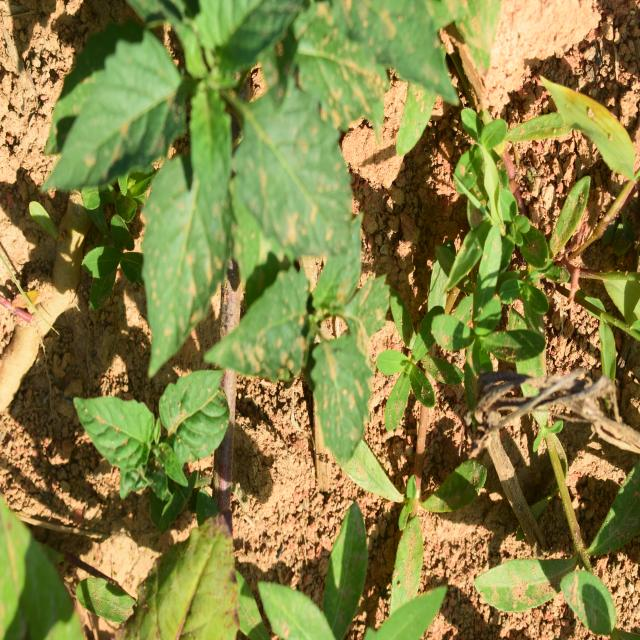Black_nightshade: (77, 2, 399, 316), (242, 254, 392, 453), (86, 372, 238, 529)
